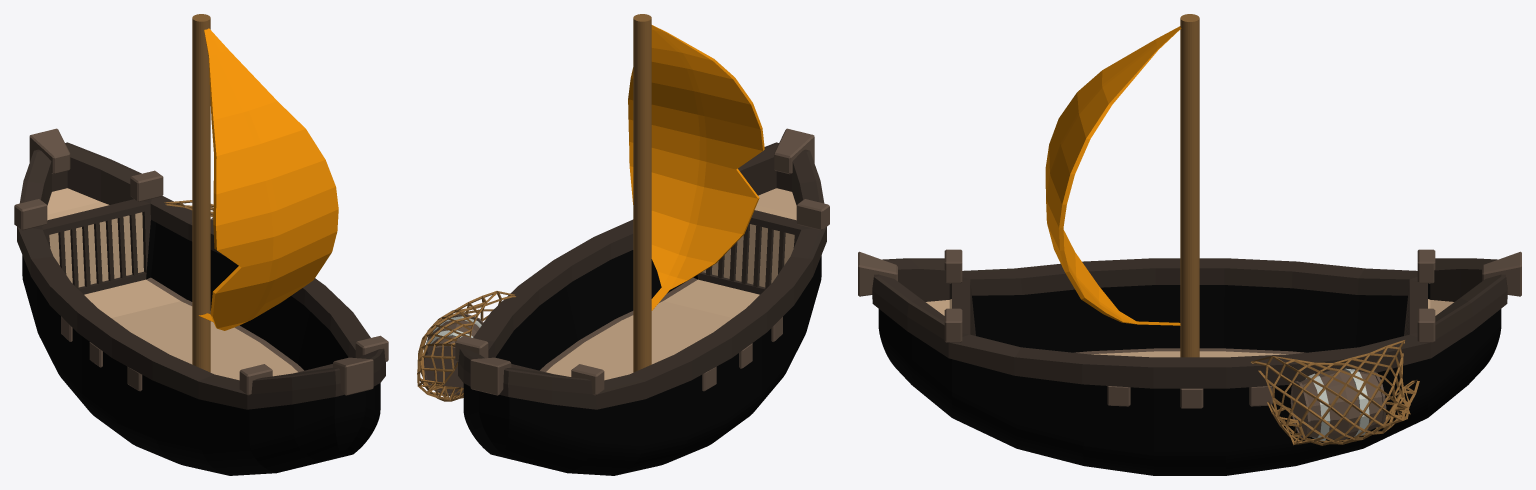
Rendered from Boat_leaf.fbx.
The picture shows the model from 3 angles, left to right: view 1: azimuth 30°, elevation 25°; view 2: azimuth 150°, elevation 25°; view 3: azimuth 270°, elevation 25°; orthographic projection. The views are drawn at different scales.
Visible parts, largest first — view 1: Boat, Cube, Cylinder.001, More outer shit, Wood thingies, Outer shit, Cube.003; view 2: Boat, Cube, Cylinder.001, Net, Outer shit, More outer shit, Cylinder, Wood thingies, Cube.003; view 3: Boat, Cube, Cylinder.001, Net, Cylinder, More outer shit, Outer shit, Cube.003.
Part boxes in pixels (bbox=[...]): Boat: bbox=[17, 142, 385, 475]; Cube: bbox=[198, 28, 338, 330]; Cylinder.001: bbox=[192, 14, 210, 372]; More outer shit: bbox=[14, 170, 388, 395]; Wood thingies: bbox=[58, 214, 137, 289]; Outer shit: bbox=[29, 128, 373, 395]; Cube.003: bbox=[61, 316, 142, 391]; Boat: bbox=[458, 142, 826, 475]; Cube: bbox=[628, 25, 764, 310]; Cylinder.001: bbox=[633, 14, 651, 372]; Net: bbox=[417, 291, 516, 401]; Outer shit: bbox=[470, 128, 814, 395]; More outer shit: bbox=[455, 199, 829, 395]; Cylinder: bbox=[424, 313, 483, 395]; Wood thingies: bbox=[706, 224, 785, 289]; Cube.003: bbox=[702, 317, 782, 391]; Boat: bbox=[872, 258, 1507, 475]; Cube: bbox=[1045, 26, 1181, 325]; Cylinder.001: bbox=[1180, 14, 1199, 357]; Net: bbox=[1251, 340, 1419, 445]; Cylinder: bbox=[1290, 368, 1386, 440]; More outer shit: bbox=[944, 249, 1435, 342]; Outer shit: bbox=[858, 251, 1521, 296]; Cube.003: bbox=[1107, 386, 1272, 406].
Bounding box in the file's own units: 393 × 583 × 837.
